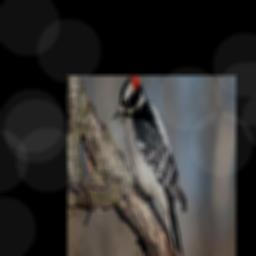Woodpecker: (110, 76, 187, 256)
